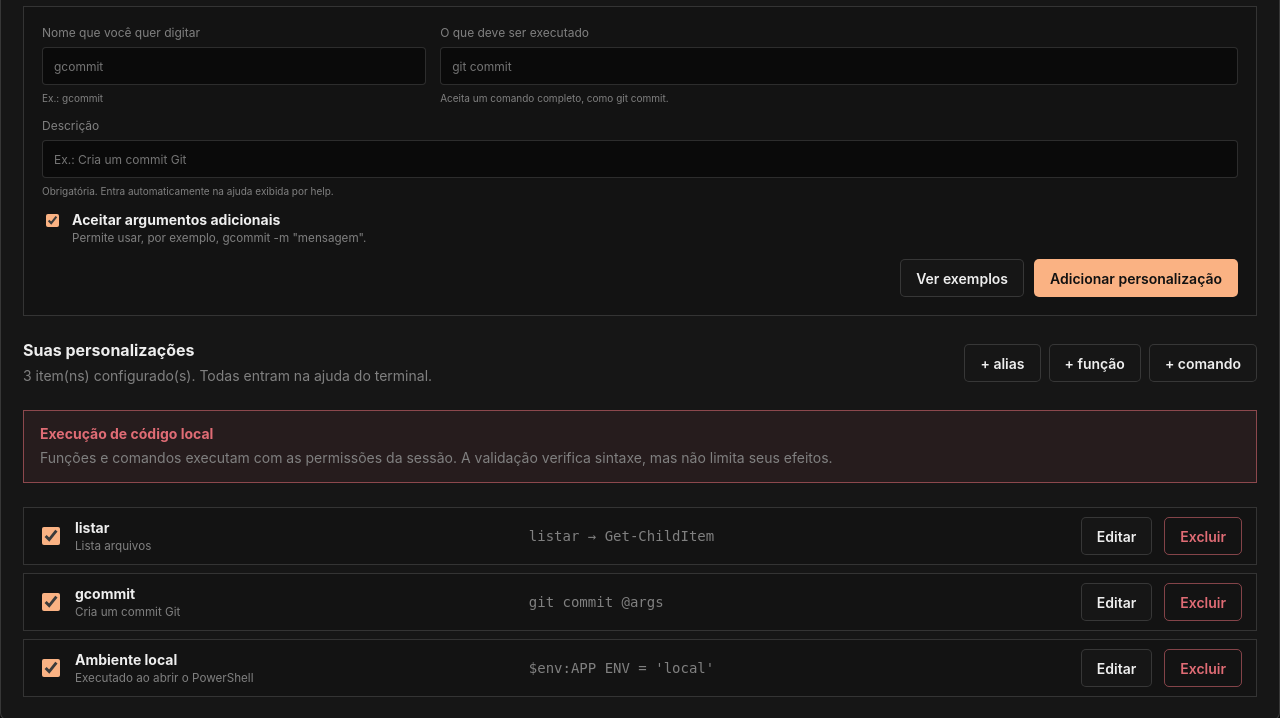
Scenario: Customizations › abre o editor do tipo correto ao clicar em Editar
(page scrolled)
Click the button "Editar" in the row of "git commit @args". click: (1117, 602)
box: top-left (1081, 583), bottom-right (1152, 621)
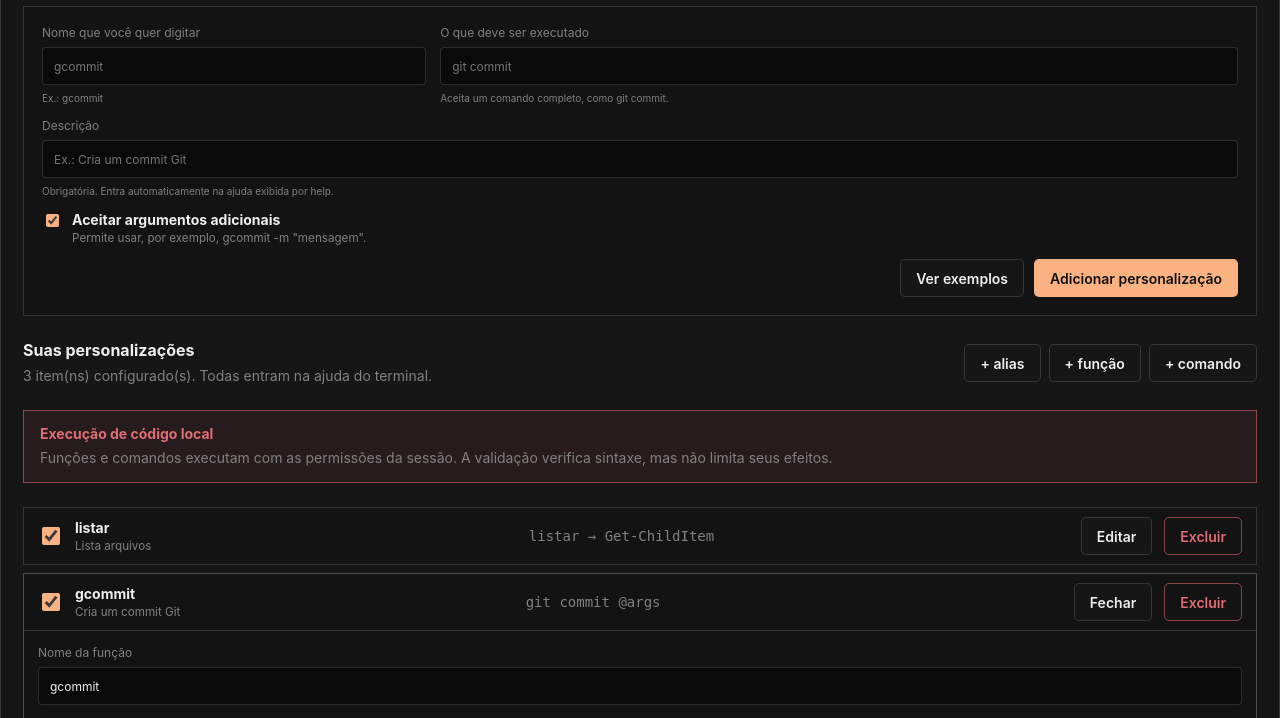
Check: the field labelled "Nome da função" holds "gcommit", box top-left (38, 667), bottom-right (1242, 705)
Check: the button "Fechar" is expanded, box top-left (1074, 583), bottom-right (1152, 621)
